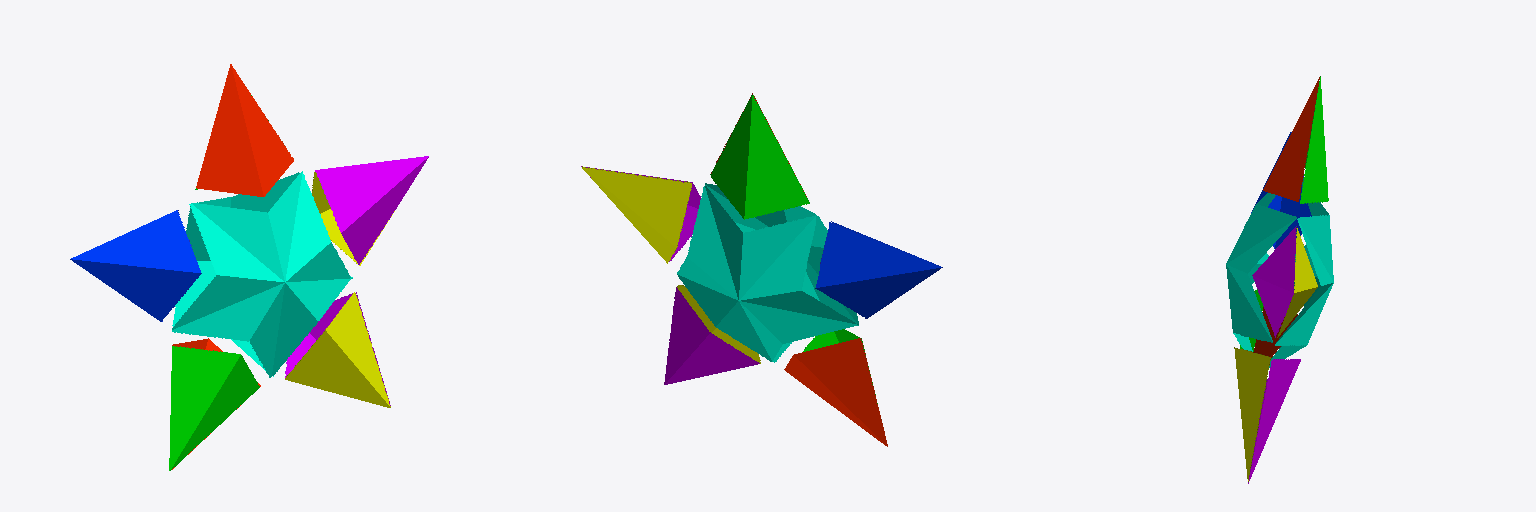
The picture shows the model from 3 angles: view 1: azimuth 30°, elevation 25°; view 2: azimuth 150°, elevation 25°; view 3: azimuth 270°, elevation 25°; orthographic projection.
Visible parts, largest first — view 1: Star; view 2: Star; view 3: Star.
Part boxes in pixels (x1,y1,x2,y2): Star: (70,64,428,470); Star: (581,93,942,446); Star: (1226,76,1333,483).
Bounding box in the file's own units: 2.35 × 2.22 × 0.6069.
1 materials, 1 textured.